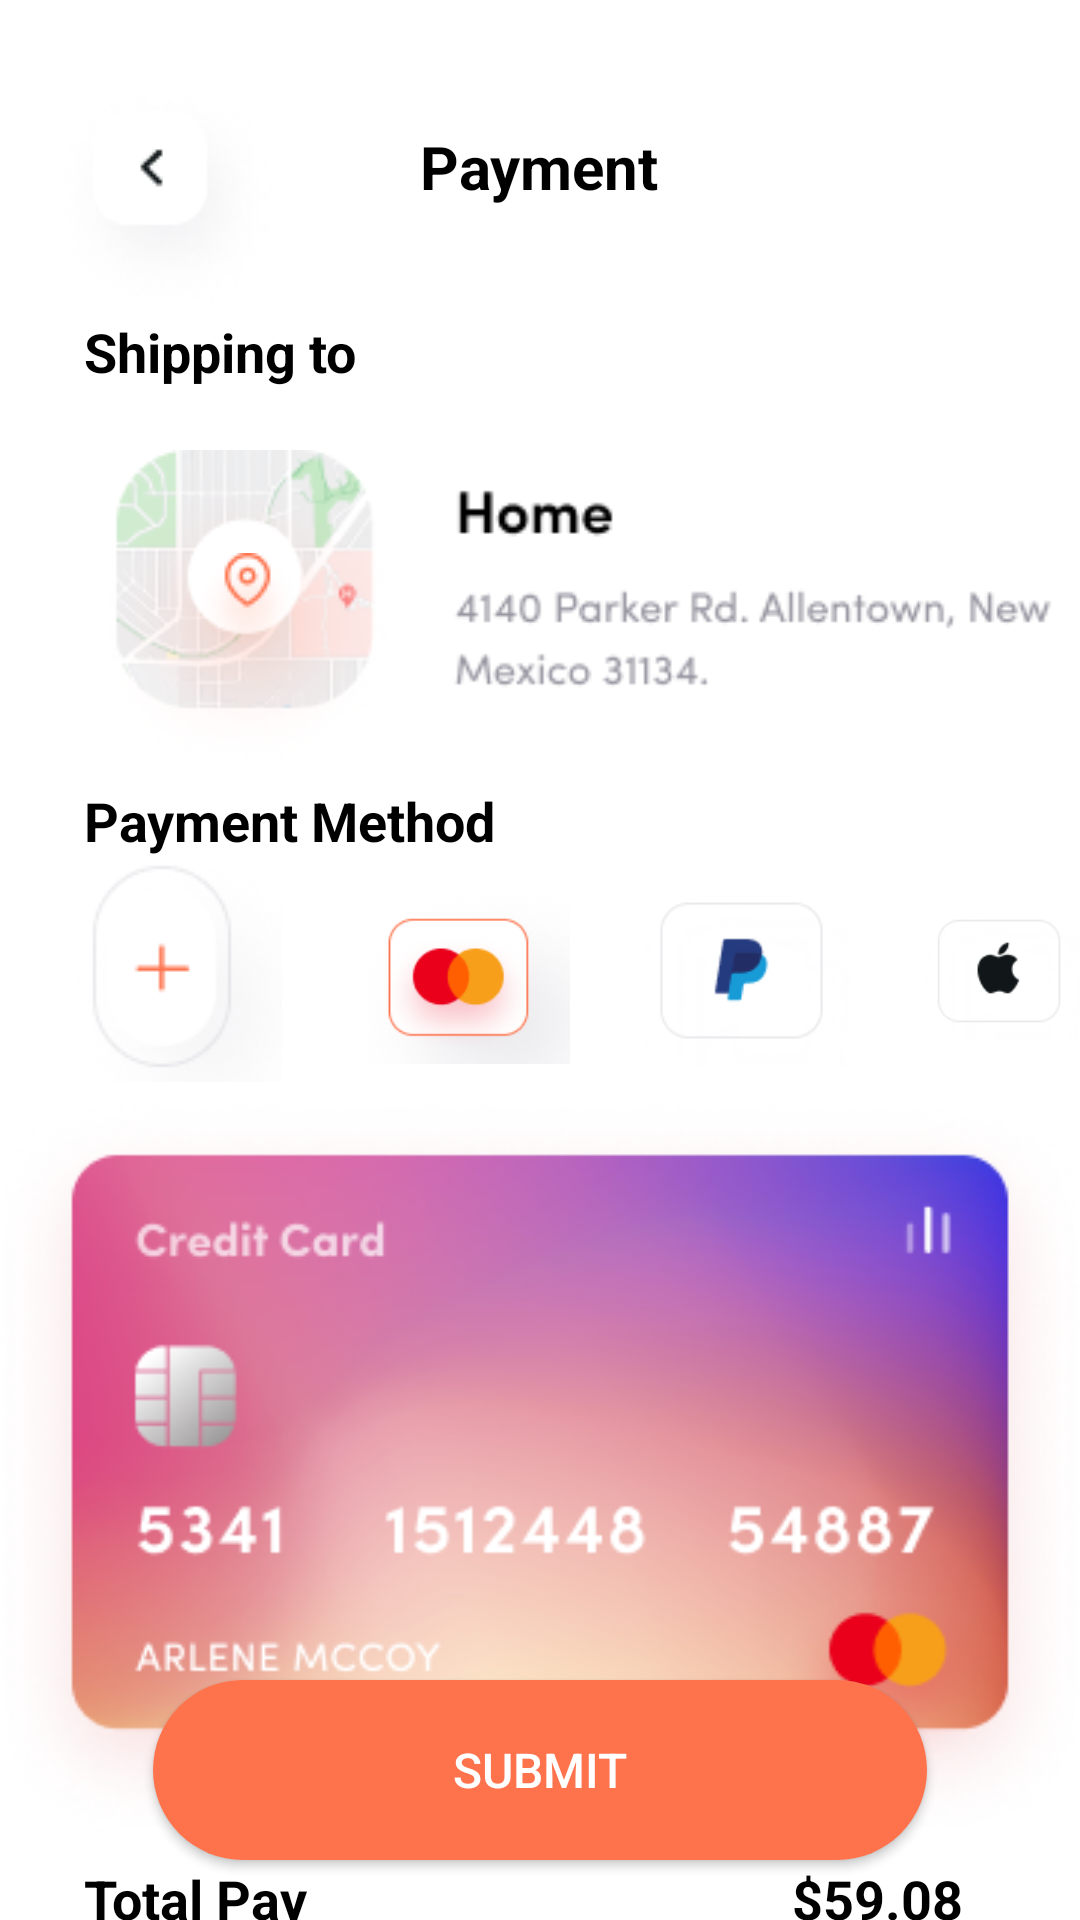

Screen size 1080 x 1920. Icon name, then its box in pixels as (x1, y1, x2, y2):
backbtn: (140, 149, 163, 187)
